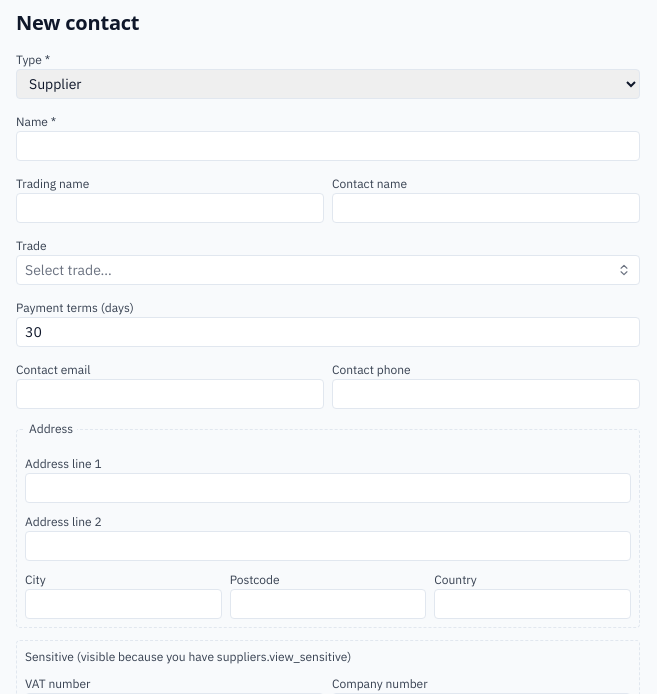
Test case: SupplierForm — CIS field is Contractor-gated (post-Gate-1 fix, render-presence) › CIS select appears the instant type switches to Contractor and disappears on switch-back
Select "Contractor" in the dropdown with test id "supplier-form-type" at (328, 84), box [16,69,640,99]
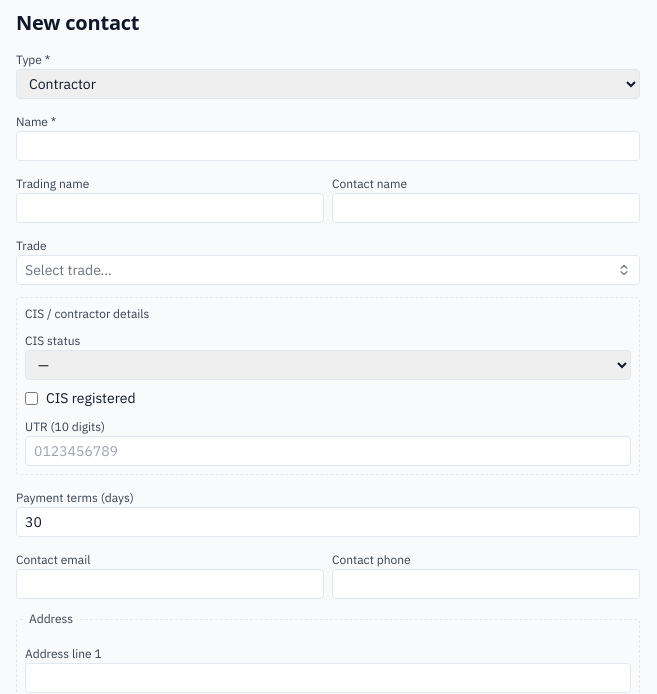
Expected: the dropdown with test id "supplier-form-cis" is shown, [25,350,631,380]
Select "Supplier" in the dropdown with test id "supplier-form-type" at (328, 84), box [16,69,640,99]
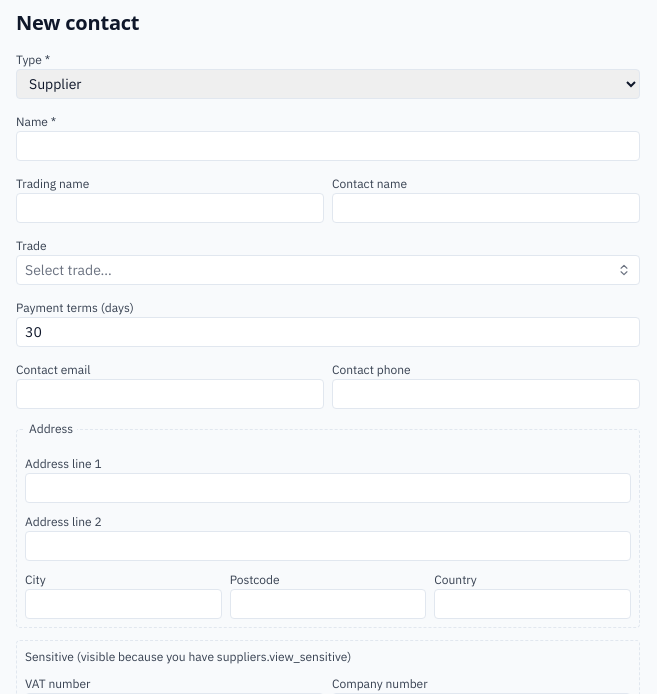
Expected: the dropdown with test id "supplier-form-cis" is gone
